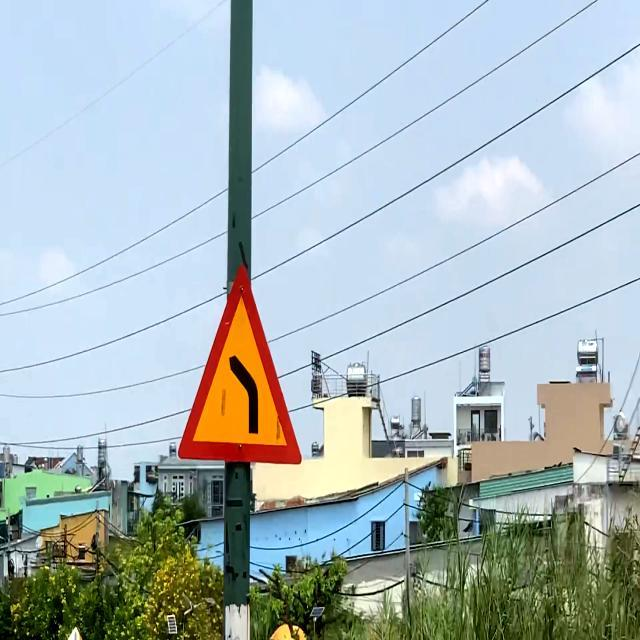W-201a: (176, 258, 303, 464)
